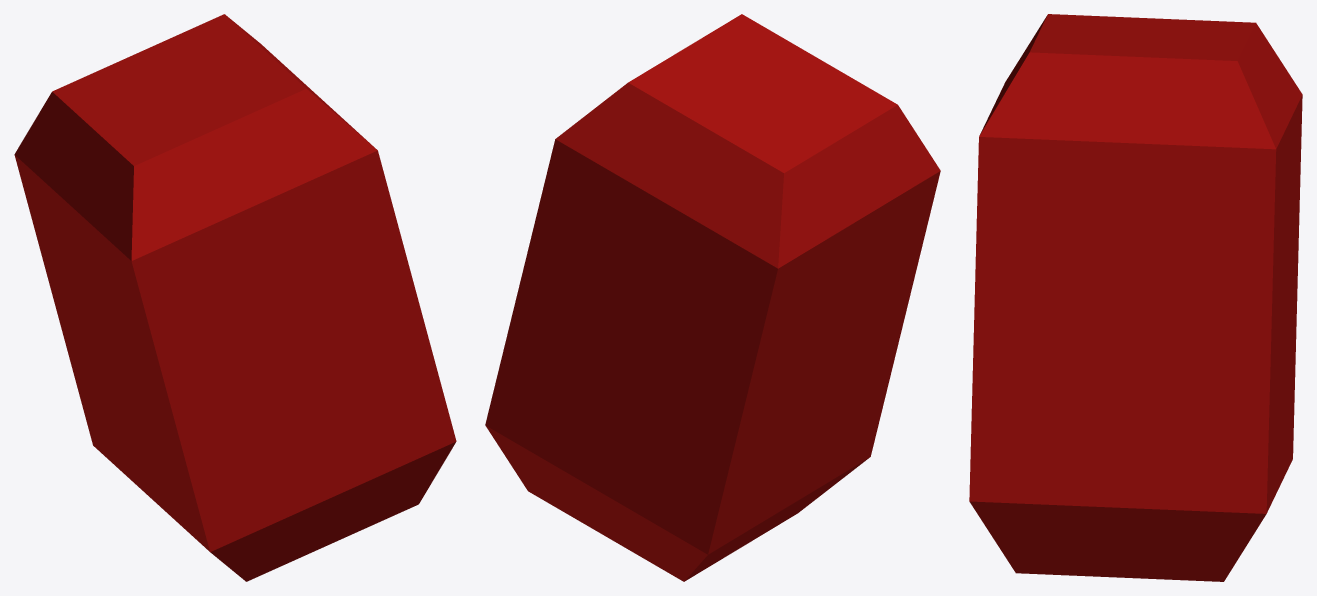
Rendered from town_jewel0008.obj.
3 views of the same model, side by side, from view 1: azimuth 30°, elevation 25°; view 2: azimuth 150°, elevation 25°; view 3: azimuth 270°, elevation 25° (orthographic). The views are drawn at different scales.
Parts seen in each view (by area): view 1: RedJewel; view 2: RedJewel; view 3: RedJewel.
Boxes of the visible parts, x1,y1,x2,y2 form: RedJewel: [14, 14, 456, 581]; RedJewel: [485, 14, 940, 581]; RedJewel: [969, 14, 1302, 581].
Size of the model in its own units: 0.8721 by 1.21 by 0.7144.
